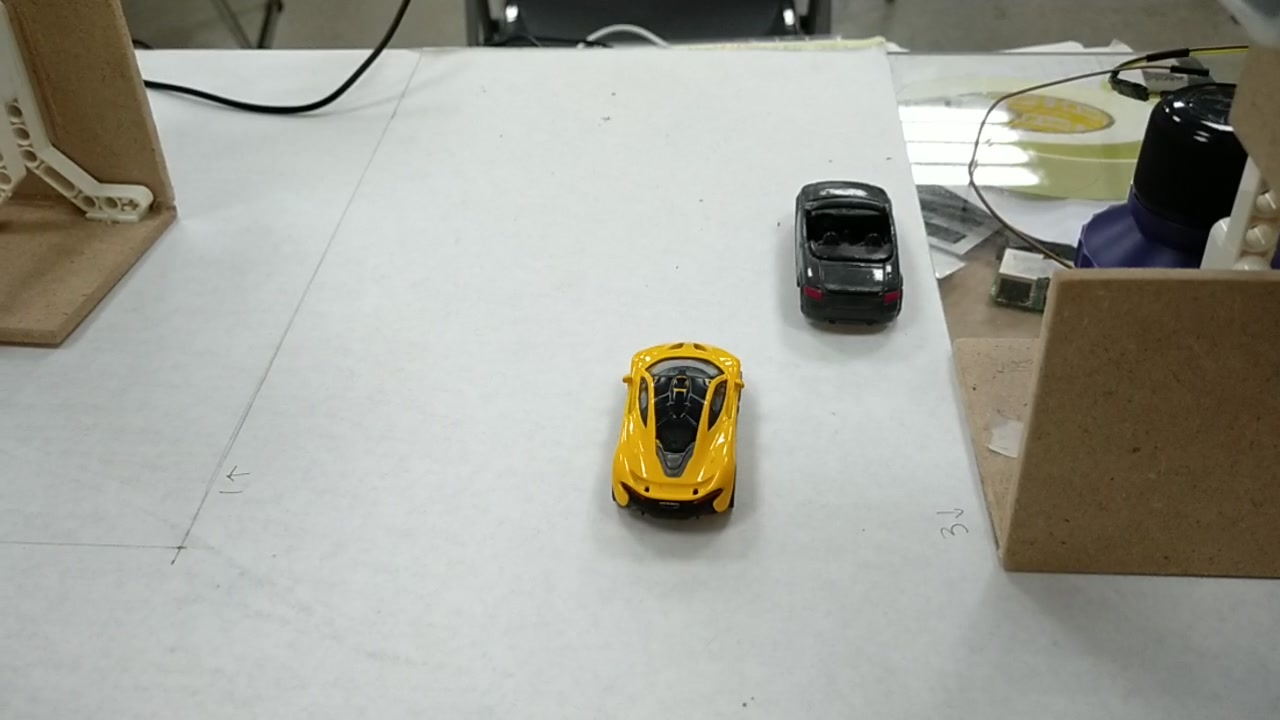car: (615, 347, 746, 505), (796, 179, 896, 319)
